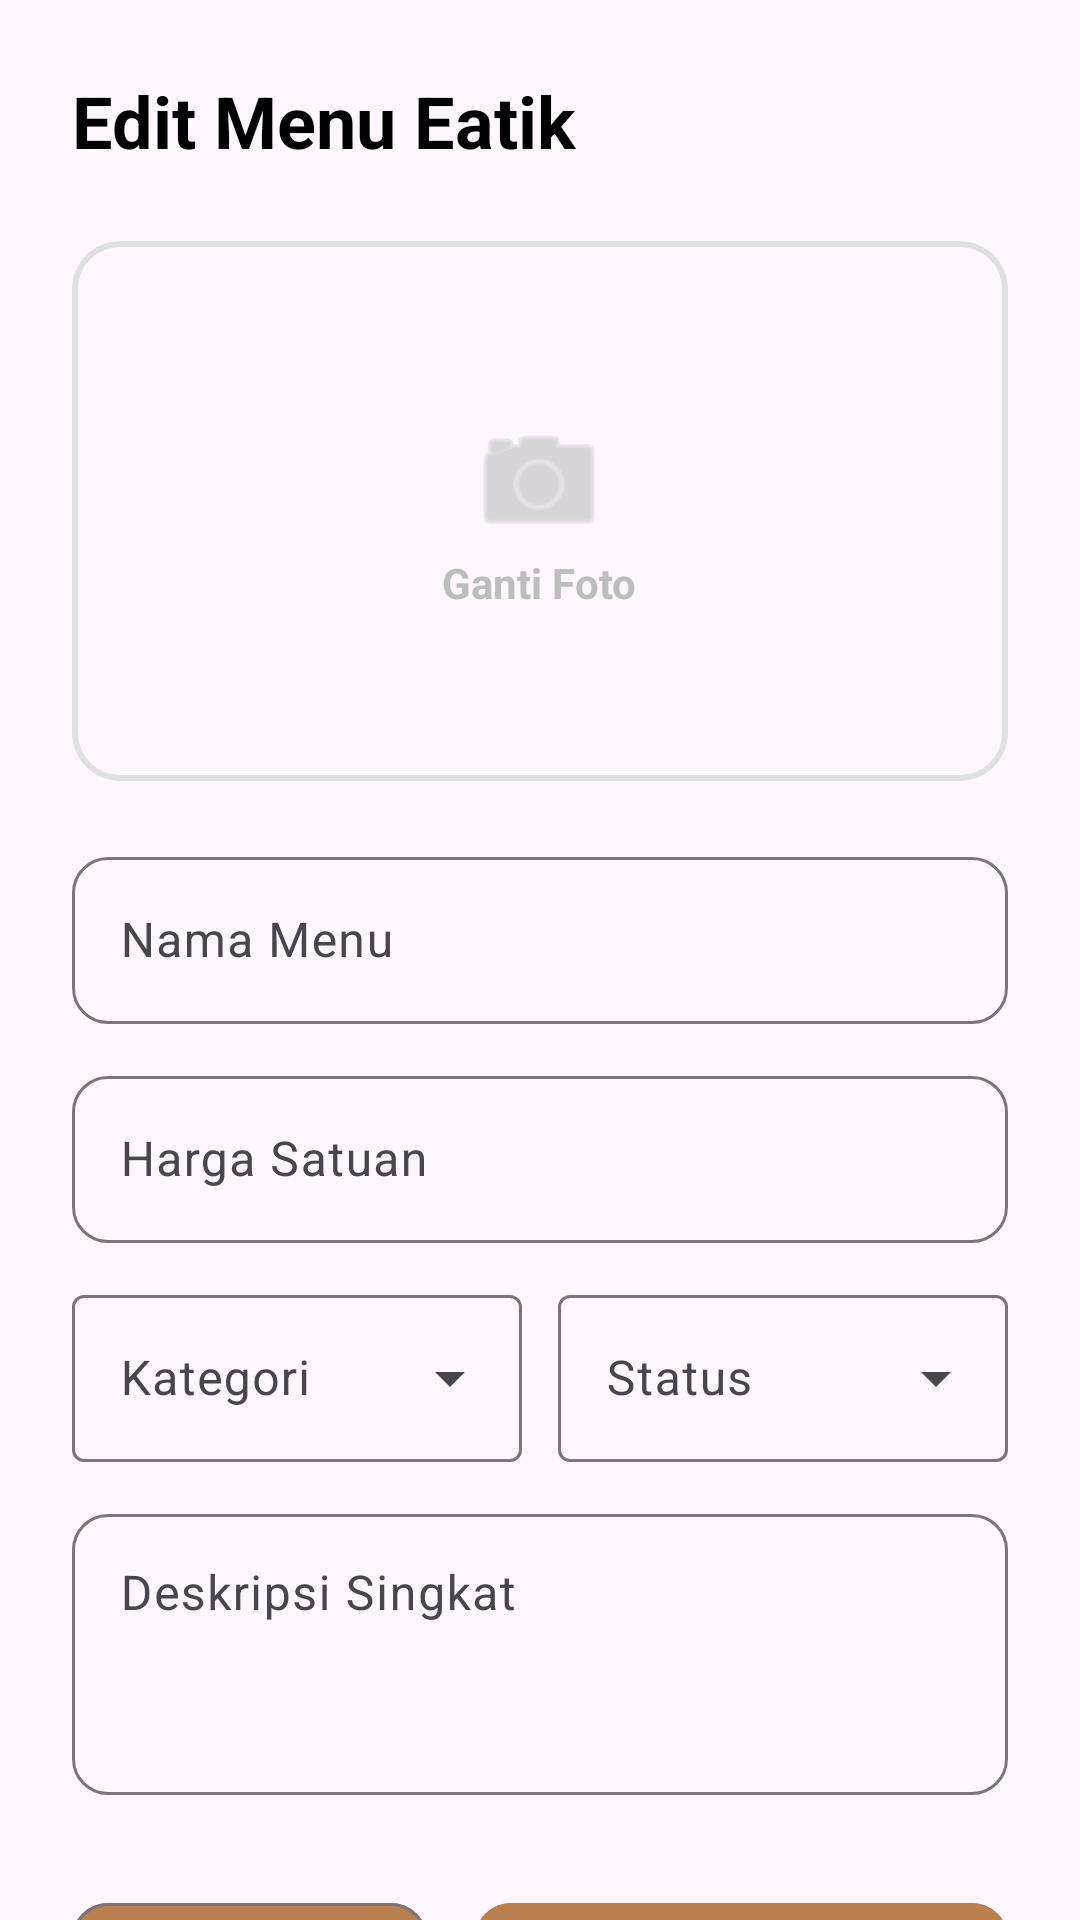

Icons on this 1080 × 1920 Android screen, each with its box as (x1, y1, x2, y2):
camera: (485, 437, 593, 522)
